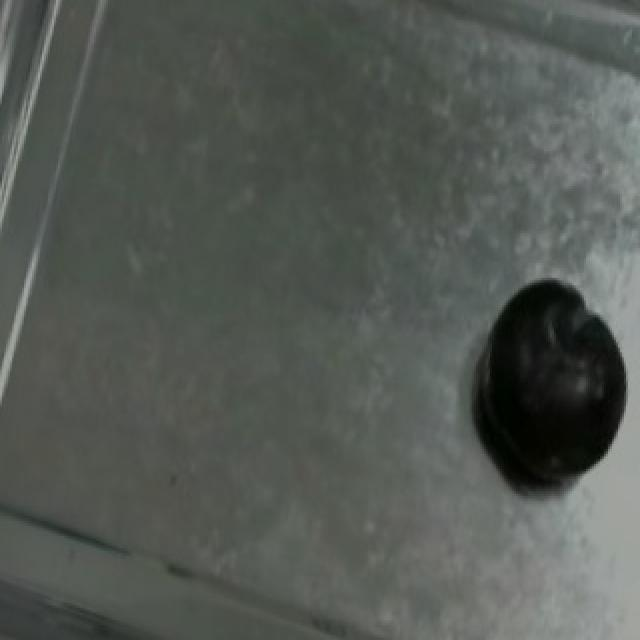Fruit: (464, 281, 640, 508)
